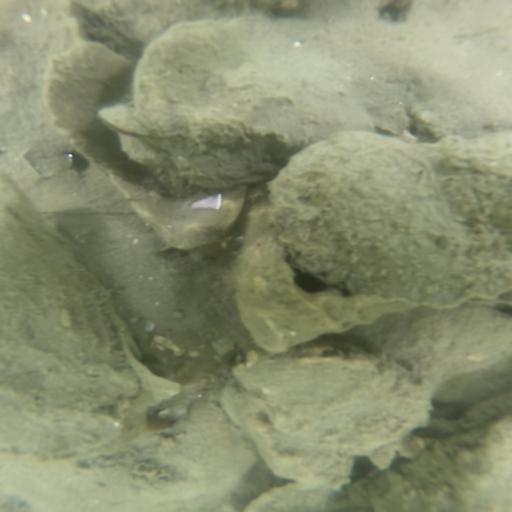Oyster-Closed: (132, 17, 388, 190), (273, 132, 505, 308), (3, 185, 140, 460), (227, 350, 438, 483), (57, 402, 252, 506)
